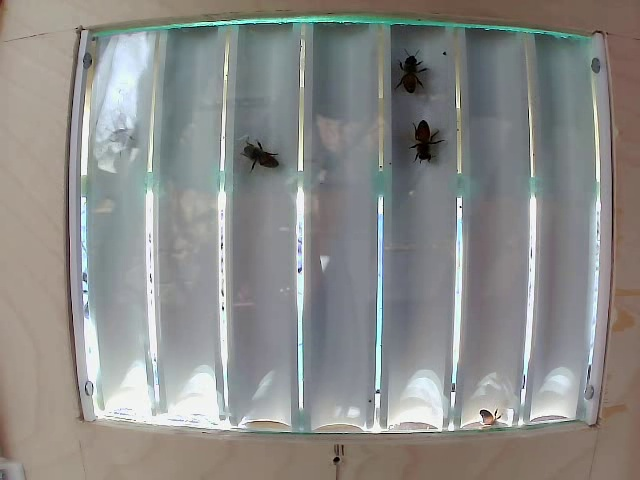bee: (401, 116, 440, 168), (391, 51, 426, 94), (242, 146, 277, 177)
